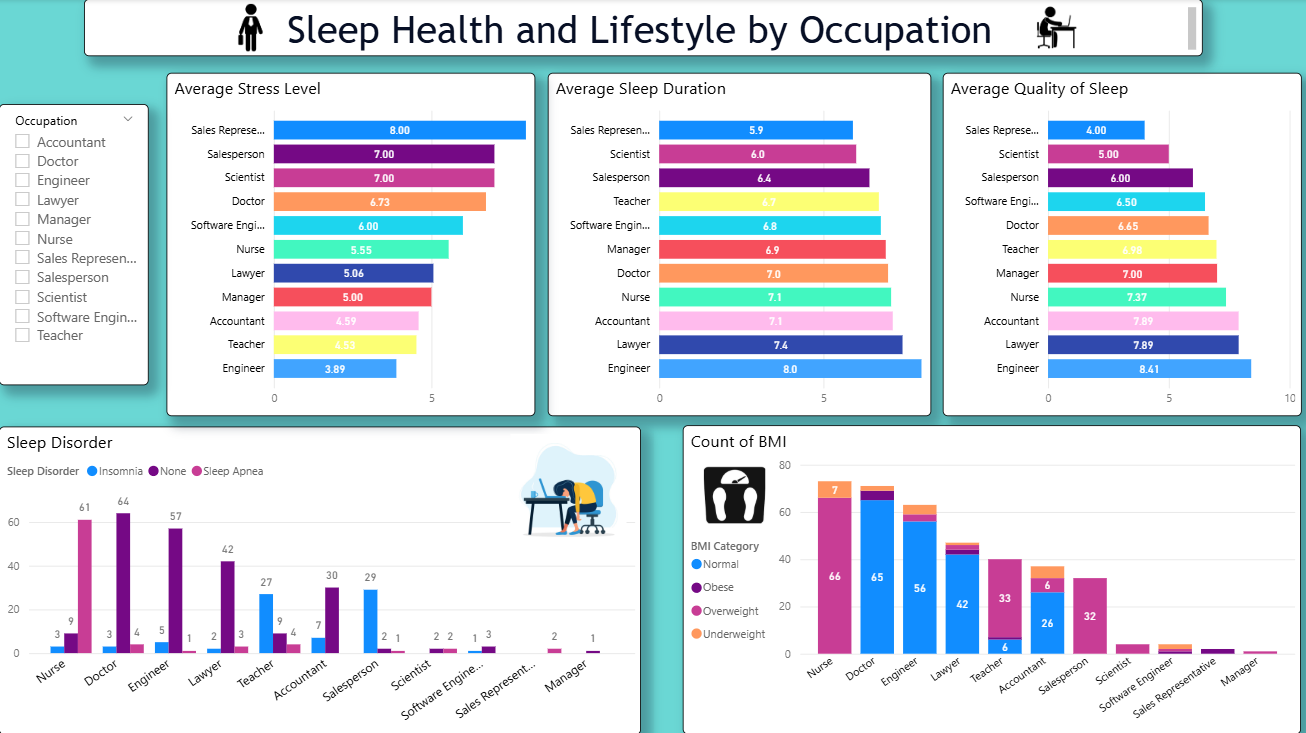

The page's visual inventory and layout, read from the dashboard file:
{"tool":"powerbi","page":{"name":"Sleep Health Analysis by Occupation","canvas":[1280,720],"ordinal":2},"visuals":[{"type":"barChart","title":"Average Sleep Duration","fields":{"Category":["By Occupation.Occupation"],"Y":["Avg(By Occupation.Sleep Duration)"],"Series":["By Occupation.Occupation"]},"box":[536.2,72.5,375,336.2],"z":0},{"type":"barChart","title":"Average Quality of Sleep ","fields":{"Category":["By Occupation.Occupation"],"Y":["Avg(By Occupation.Quality of Sleep)"],"Series":["By Occupation.Occupation"]},"box":[923.8,72.5,351.2,336.2],"z":1000},{"type":"clusteredColumnChart","title":"Sleep Disorder ","fields":{"Category":["By Occupation.Occupation"],"Y":["CountNonNull(By Occupation.Sleep Disorder)"],"Series":["By Occupation.Sleep Disorder"]},"box":[0,418.1,628.3,301.9],"z":2000},{"type":"barChart","title":"Average Stress Level","fields":{"Category":["By Occupation.Occupation"],"Y":["Avg(By Occupation.Stress Level)"],"Series":["By Occupation.Occupation"]},"box":[163.8,72.1,360.6,336.2],"z":3000},{"type":"columnChart","title":"Count of BMI","fields":{"Category":["By Occupation.Occupation"],"Y":["CountNonNull(By Occupation.BMI Category)"],"Series":["By Occupation.BMI Category"]},"box":[668.8,417.5,605,302.5],"z":4000},{"type":"textbox","box":[83.1,0,1094.1,56.2],"z":5000},{"type":"image","box":[981.6,0,102.7,56.2],"z":6000},{"type":"image","box":[486.5,420.5,140.6,123.5],"z":7000},{"type":"image","box":[684.6,435.2,69.7,99],"z":8000},{"type":"image","box":[216.4,0,59.9,56.2],"z":9000},{"type":"slicer","fields":{"Values":["Occupation.Occupation"]},"box":[0,102.7,146.7,275],"z":10000}]}

Visuals, with their boxes in screenshot pixels (x1, y1, x2, y2), scaled from the page's 1280x720 canvas onto the 1306x733 screenshot:
"Average Sleep Duration" barChart: box(547, 74, 930, 416)
"Average Quality of Sleep " barChart: box(943, 74, 1301, 416)
"Sleep Disorder " clusteredColumnChart: box(0, 426, 641, 732)
"Average Stress Level" barChart: box(167, 73, 535, 416)
"Count of BMI" columnChart: box(682, 425, 1300, 732)
textbox: box(85, 0, 1201, 57)
image: box(1002, 0, 1106, 57)
image: box(496, 428, 640, 554)
image: box(699, 443, 770, 544)
image: box(221, 0, 282, 57)
slicer - Occupation.Occupation: box(0, 105, 150, 385)
